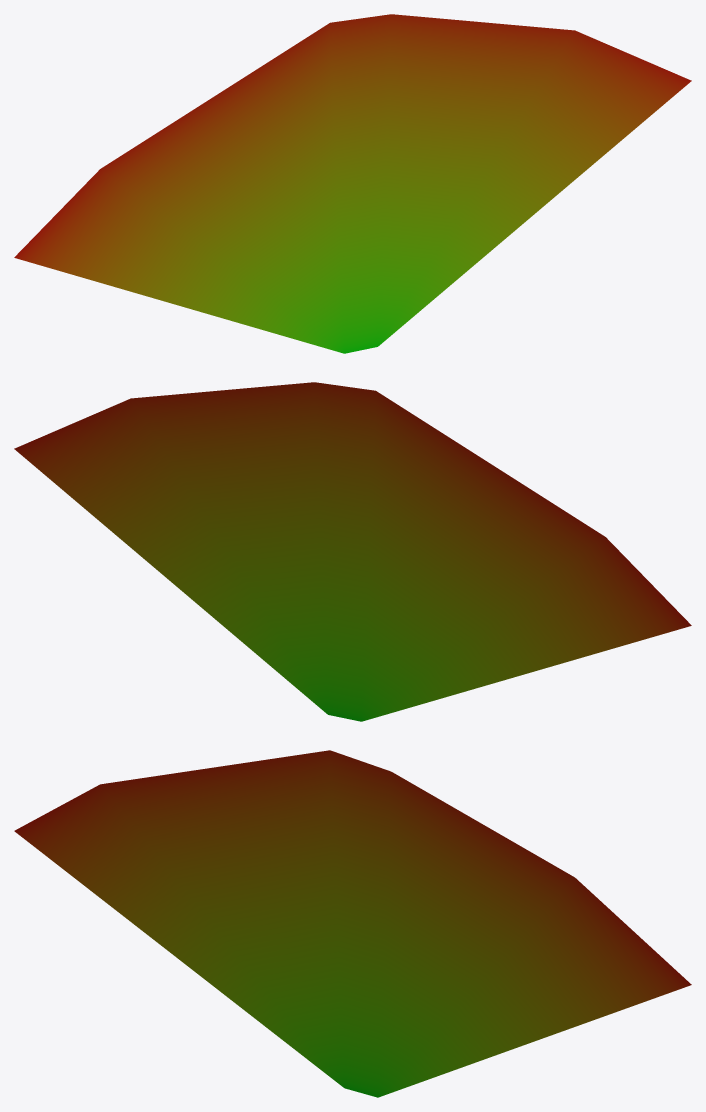
Rendered from Purple Ornamental Kale_LOD6_Var7_ugdieawja.fbx.
The picture shows the model from 3 angles, top to bottom: view 1: azimuth 30°, elevation 25°; view 2: azimuth 150°, elevation 25°; view 3: azimuth 330°, elevation 25°; orthographic projection.
Visible parts, largest first — view 1: _d770_Var7_LOD6; view 2: _d770_Var7_LOD6; view 3: _d770_Var7_LOD6.
Boxes of the visible parts, x1,y1,x2,y2 form: _d770_Var7_LOD6: (14, 14, 691, 353); _d770_Var7_LOD6: (14, 382, 691, 721); _d770_Var7_LOD6: (14, 750, 691, 1097).
Size of the model in its own units: 43.14 by 20.42 by 9.54e-07.
